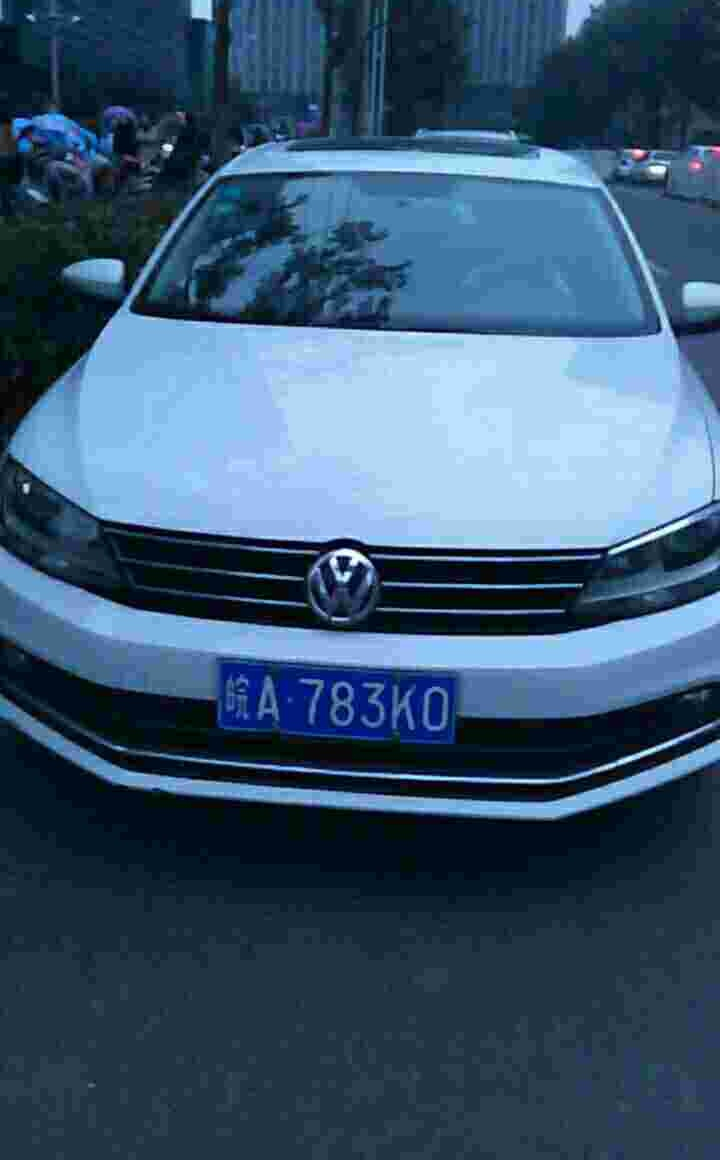license_plate: (225, 666, 474, 747)
